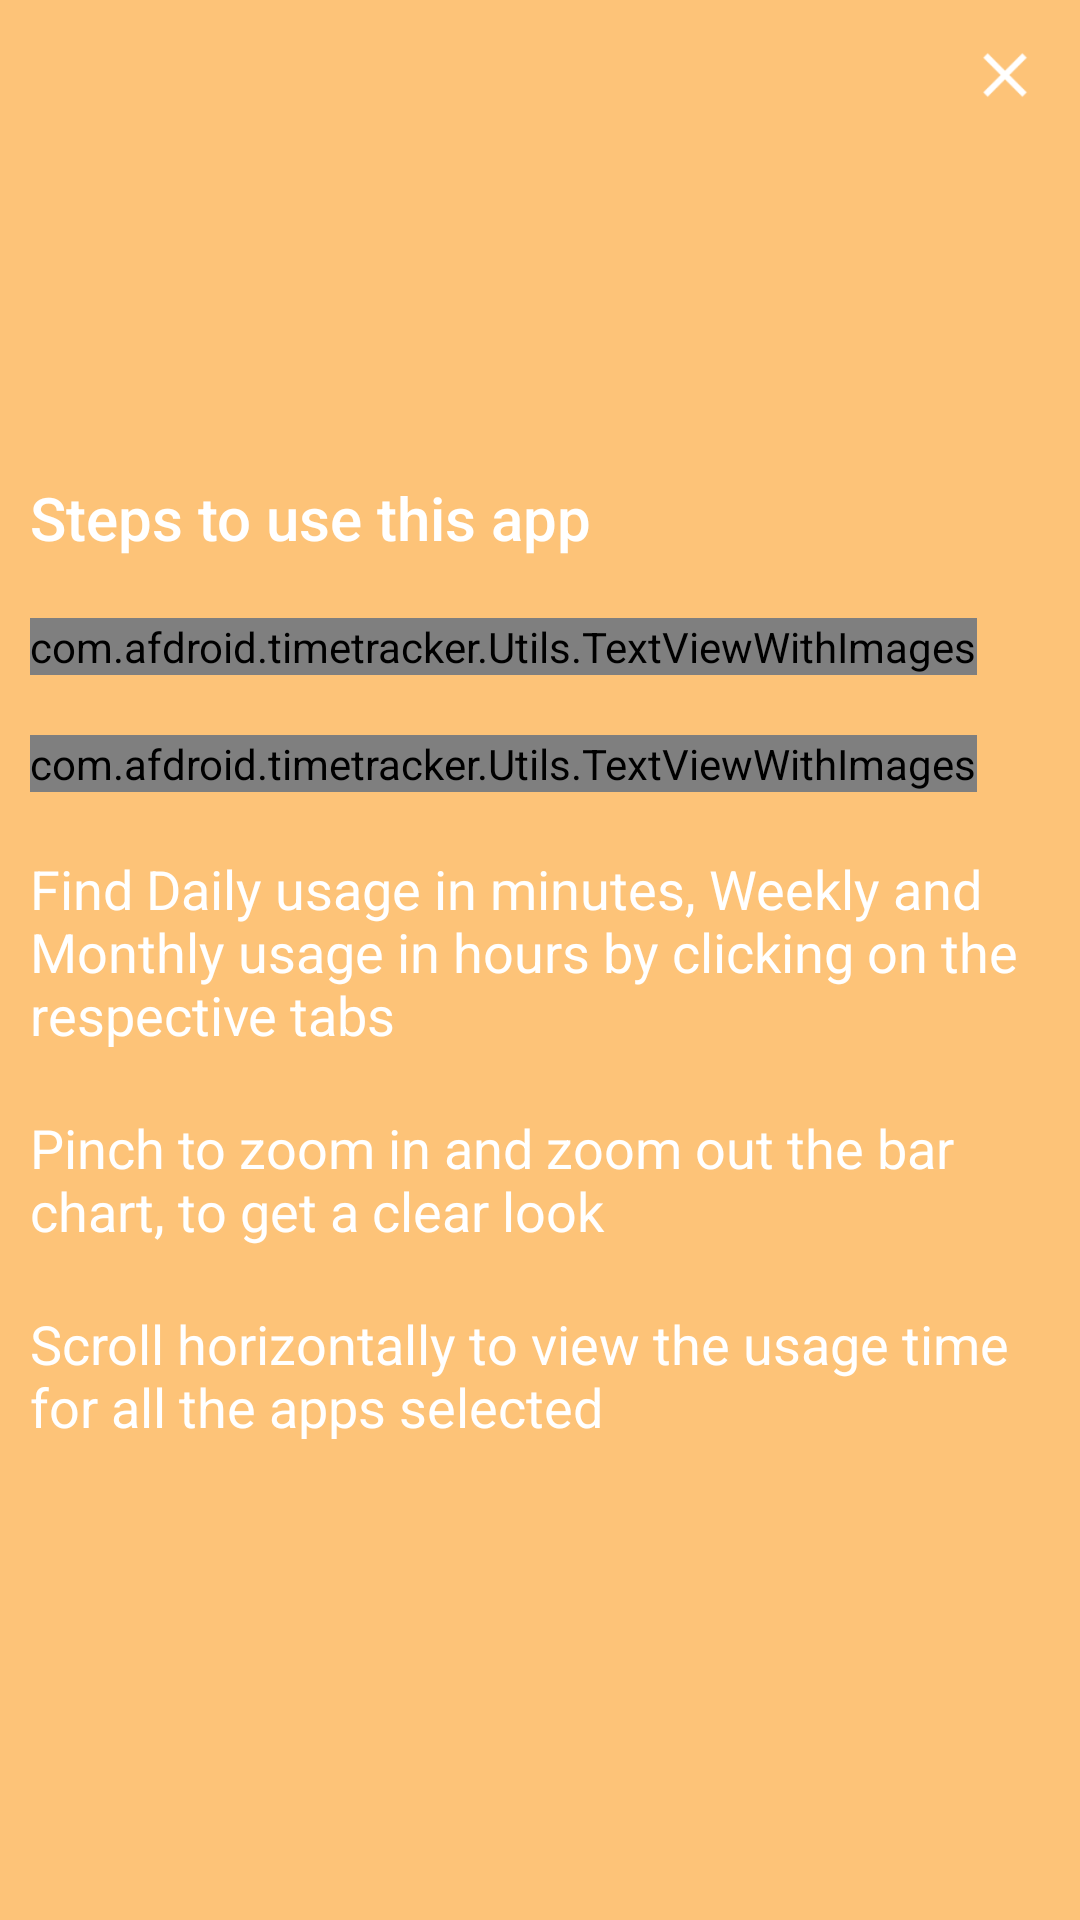

Icons on this 1080x1920 Android screen, each with the point to tap as point (x, y):
close: point (1005, 75)
